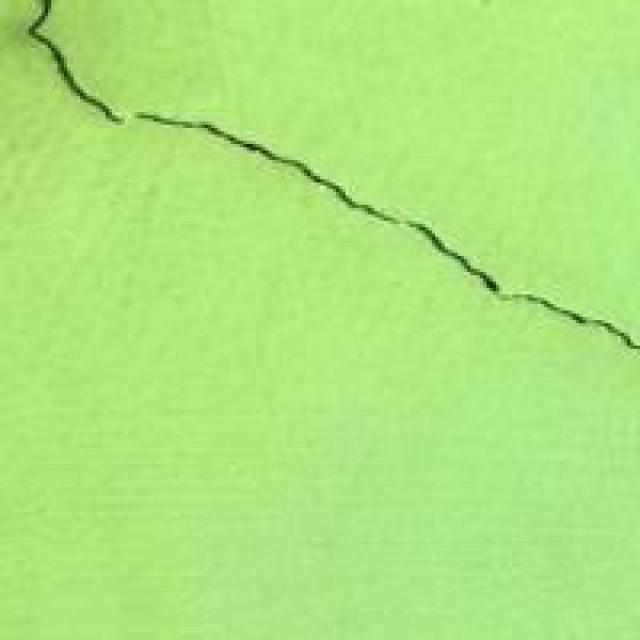crack: (18, 0, 640, 380)
